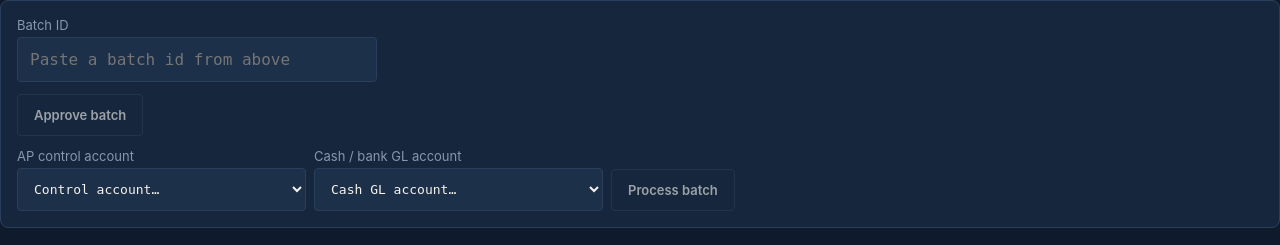
Scenario: PaymentBatchActions — approve › shows a confirmation on success
This screenshot has width=1280, height=245.
Type "batch-1" into the field labelled "Batch ID" at (197, 60), box [17,37,377,82]
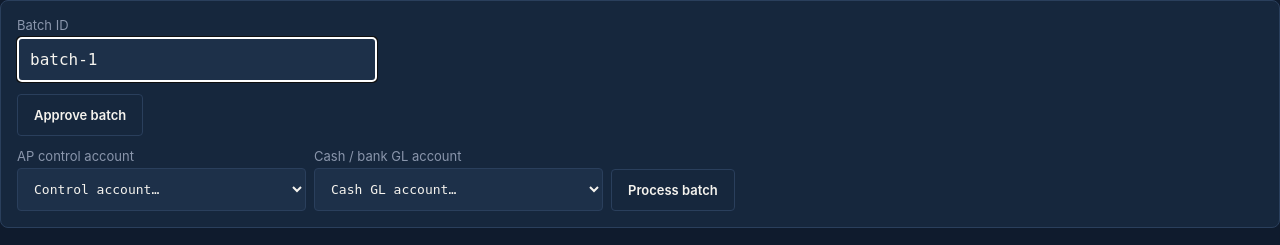
Click the button "Approve batch" at (80, 115), box [17,94,143,136]
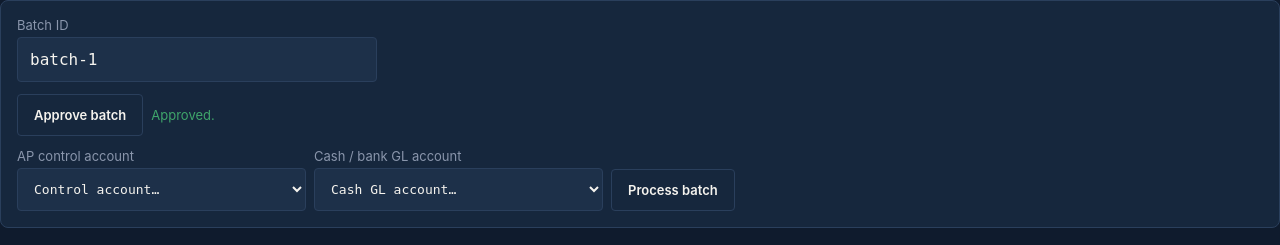
Expected: the text "Approved." is shown, [151,107,215,123]
